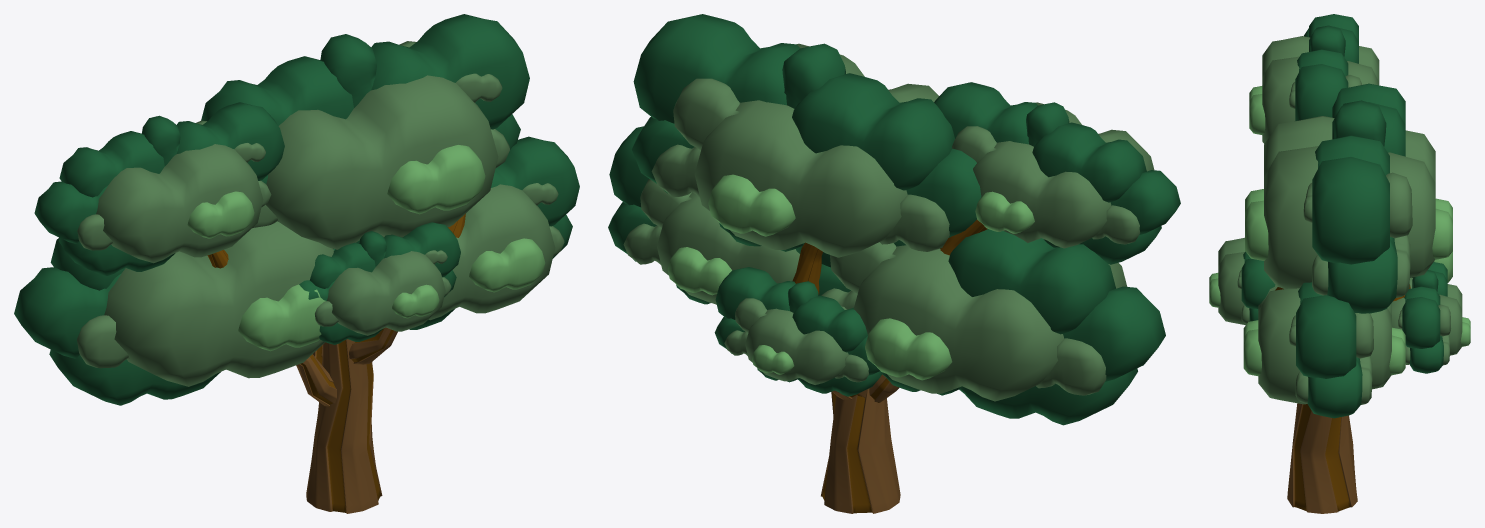
The model's file is TreeUNITY.fbx.
3 renders of one model, left to right at view 1: azimuth 30°, elevation 25°; view 2: azimuth 150°, elevation 25°; view 3: azimuth 270°, elevation 25°, orthographic. The views are drawn at different scales.
Parts seen in each view (by area): view 1: pCube27; view 2: pCube27; view 3: pCube27.
Boxes of the visible parts, x1,y1,x2,y2 form: pCube27: (14,14,579,513); pCube27: (608,14,1180,513); pCube27: (1209,14,1470,513).
Size of the model in its own units: 31.05 by 24.28 by 14.21.
